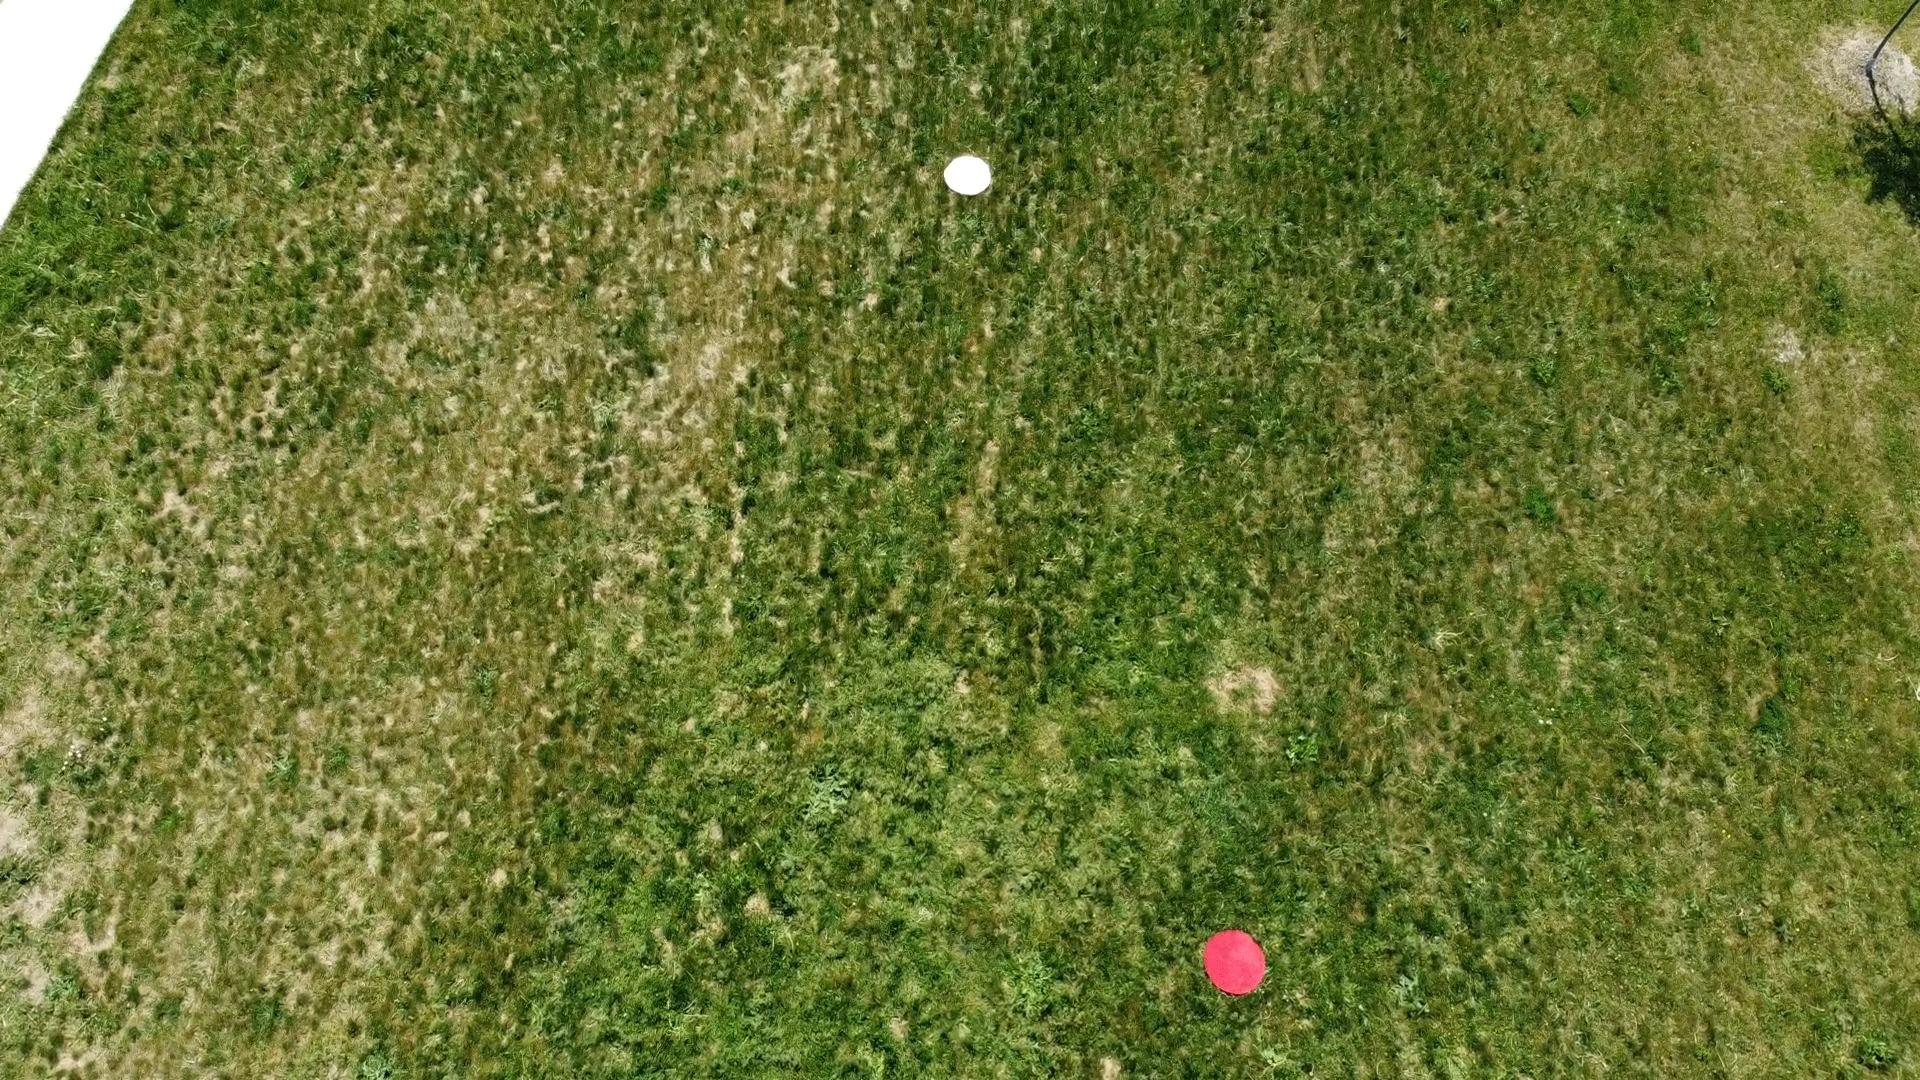Red: (1203, 924, 1270, 998)
Unknown: (939, 152, 994, 200)
